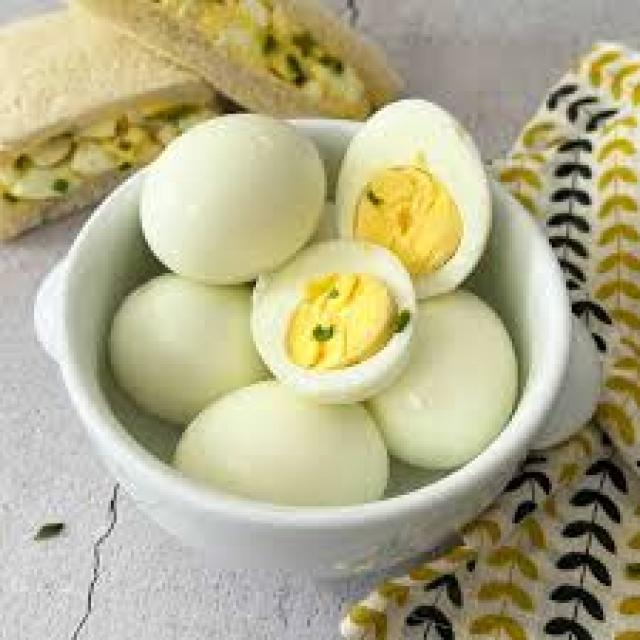boiled egg: (140, 114, 327, 284), (336, 100, 492, 298), (174, 379, 389, 506), (251, 239, 415, 403), (367, 291, 517, 469), (109, 274, 267, 426)
